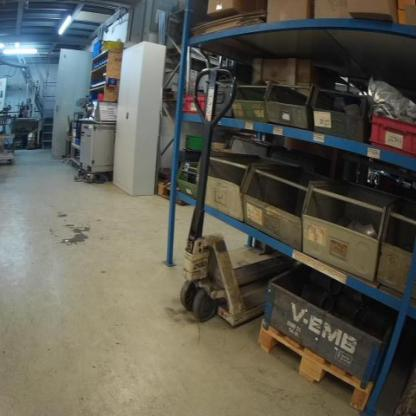pallet: (256, 318, 375, 409), (156, 182, 192, 207)
pallet_truck: (180, 67, 291, 328)
small_load_carrier: (368, 112, 416, 159), (181, 93, 208, 117)
